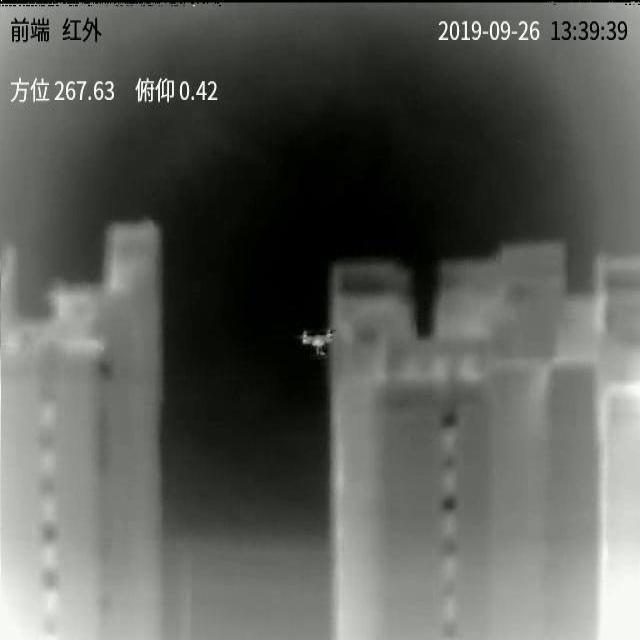drone: (300, 329, 336, 356)
